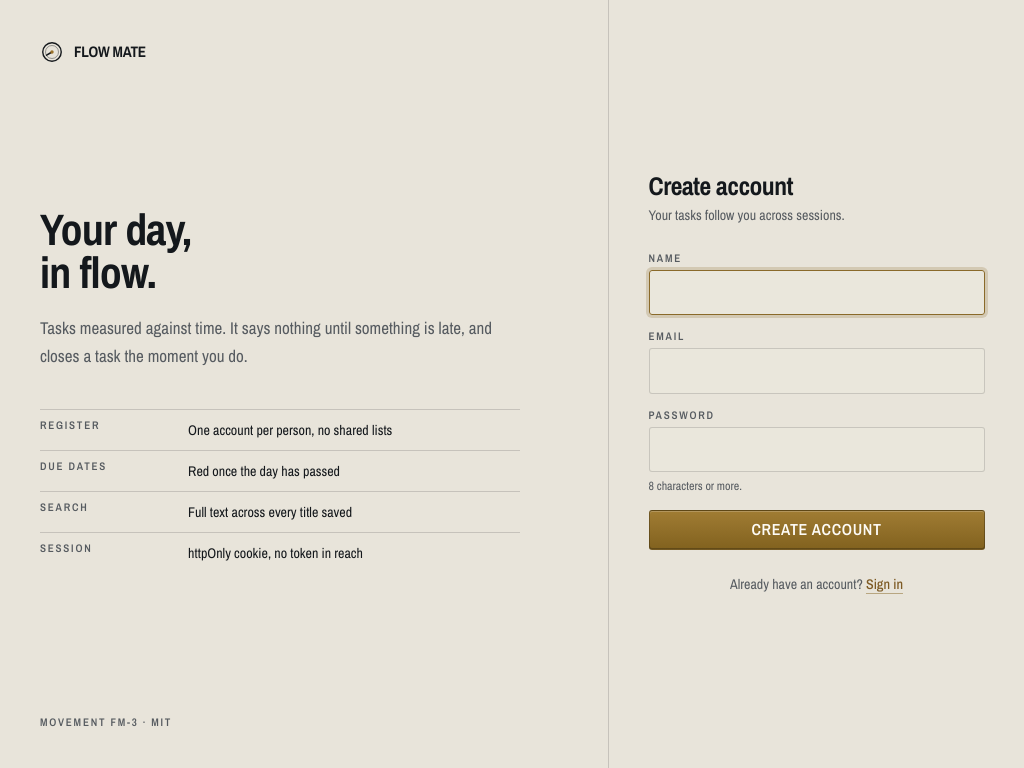
Test: AuthPage: register › validates inline before touching the network
This screenshot has width=1024, height=768.
Click the button "Create account" at (816, 530), box x1=648 y1=510 x2=984 y2=550
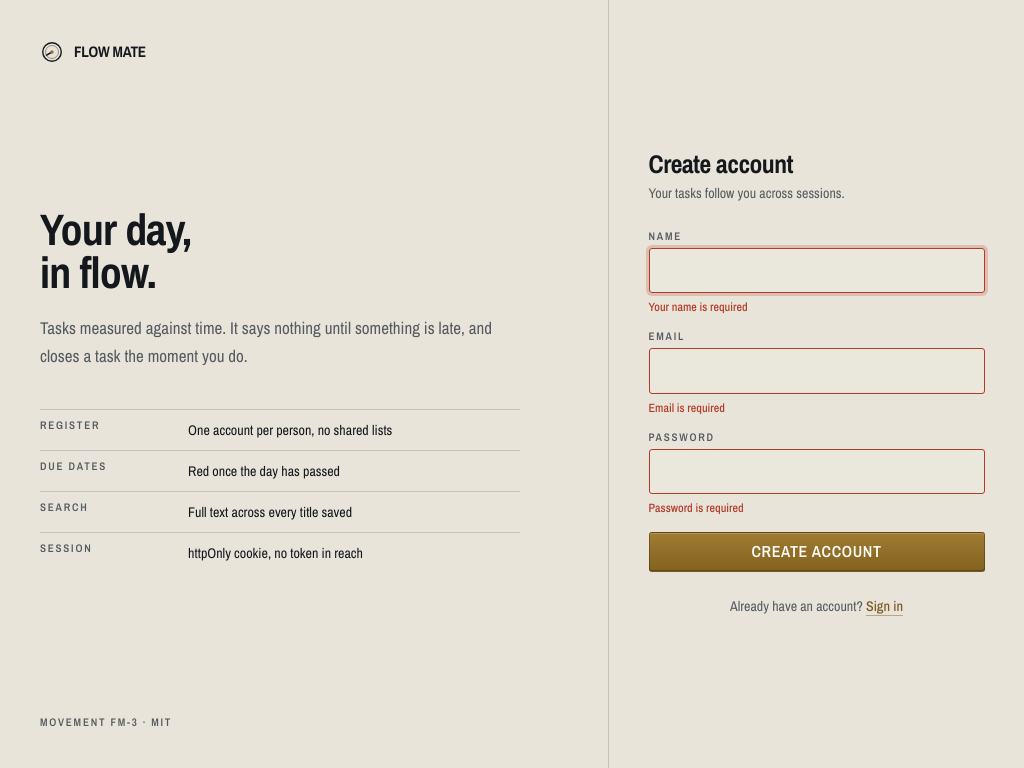
Now the text "Your name is required" is shown, box x1=648 y1=299 x2=748 y2=315
Now the text "Email is required" is shown, box x1=648 y1=400 x2=725 y2=416
Now the text "Password is required" is shown, box x1=648 y1=500 x2=744 y2=516
